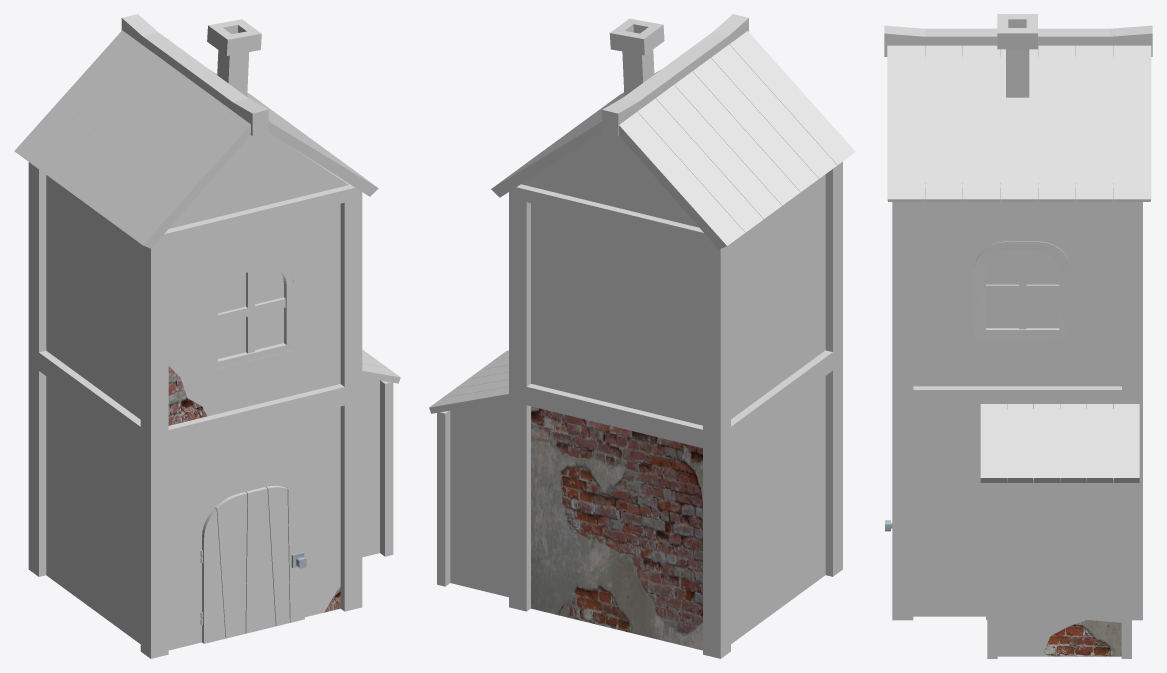
The model's file is House.fbx.
3 views of the same model, side by side, from view 1: azimuth 30°, elevation 25°; view 2: azimuth 150°, elevation 25°; view 3: azimuth 270°, elevation 25° (orthographic). The views are drawn at different scales.
Parts seen in each view (by area): view 1: Cube, Cube.002, Cube.015, Cube.012, Cube.001, Cube.008, Cube.007, Cube.019, Cube.011, Cube.013, Cube.004, Cube.017 (+1 smaller); view 2: Cube.001, Cube.002, Cube.014, Cube, Cube.012, Cube.011, Cube.013, Cube.003, Cube.006; view 3: Cube.012, Cube, Cube.001, Cube.002, Cube.006, Cube.009, Cube.020, Cube.011, Cube.013, Cube.016, Cube.003, Cube.004.
Part boxes in pixels (x1,y1,x2,y2): Cube: (46, 376, 379, 650); Cube.002: (28, 150, 362, 658); Cube.015: (168, 132, 348, 416); Cube.012: (14, 30, 378, 248); Cube.001: (46, 175, 293, 419); Cube.008: (202, 485, 304, 643); Cube.007: (211, 260, 293, 370); Cube.019: (218, 267, 283, 358); Cube.011: (121, 14, 268, 136); Cube.013: (207, 19, 261, 96); Cube.004: (380, 380, 393, 556); Cube.017: (168, 366, 207, 425); Cube.001: (521, 132, 825, 425); Cube.002: (509, 161, 842, 658); Cube.014: (531, 406, 702, 650); Cube: (450, 376, 825, 643); Cube.012: (491, 31, 855, 249); Cube.011: (602, 14, 748, 136); Cube.013: (609, 18, 664, 96); Cube.003: (437, 410, 450, 586); Cube.006: (429, 350, 508, 413); Cube.012: (887, 45, 1151, 201); Cube: (913, 409, 1121, 656); Cube.001: (913, 57, 1121, 386); Cube.002: (892, 184, 1142, 620); Cube.006: (980, 404, 1139, 482); Cube.009: (974, 241, 1071, 340); Cube.020: (986, 249, 1059, 328); Cube.011: (884, 25, 1152, 56); Cube.013: (997, 14, 1037, 97); Cube.016: (1044, 620, 1121, 656); Cube.003: (1121, 483, 1131, 658); Cube.004: (987, 483, 997, 658).
Size of the model in its own units: 617 by 1069 by 460.
6 materials, 1 textured.
